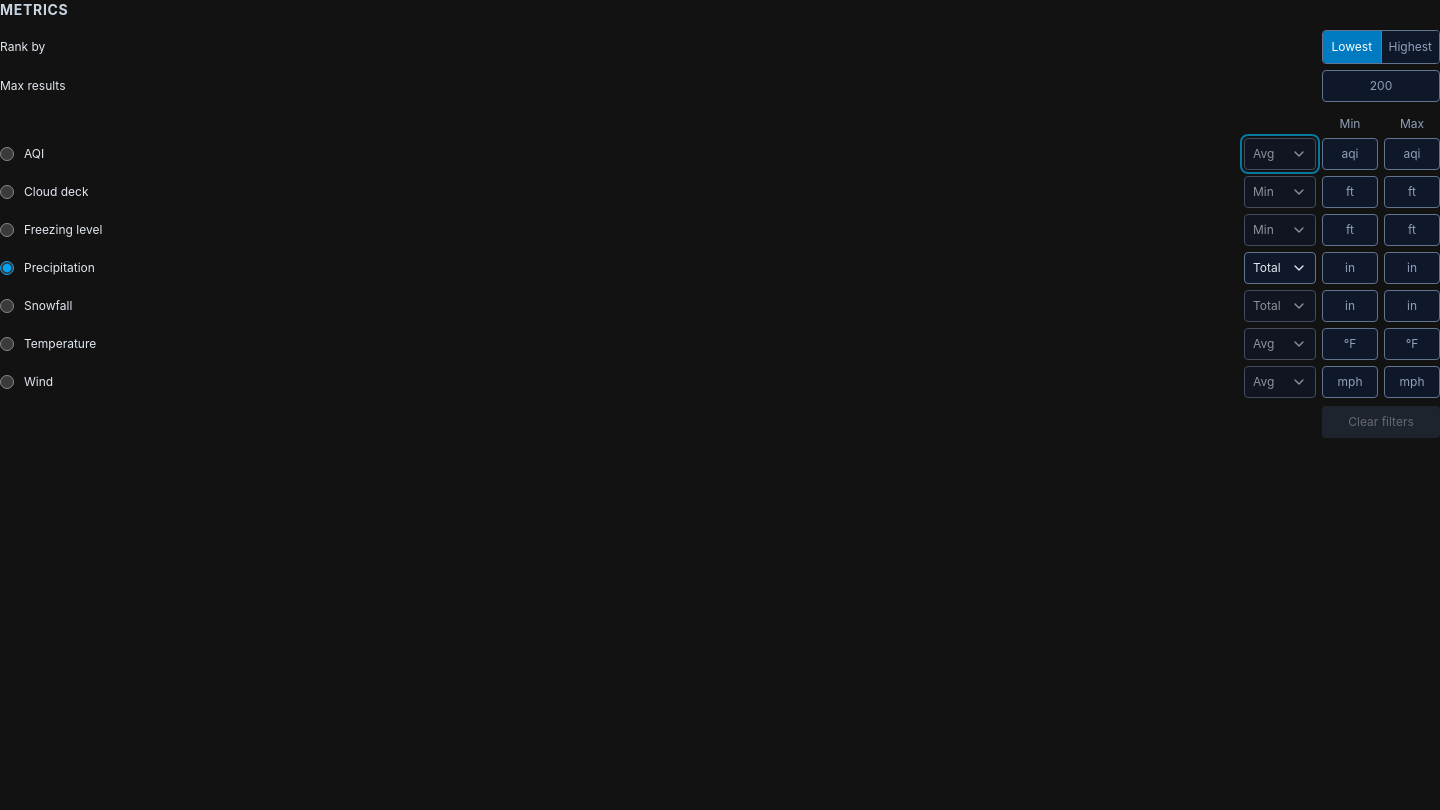
MetricsTable › ranks by a new aggregate from a sheet on a phone
Click the 2nd button "Avg" at (1280, 344), box top-left (1244, 328), bottom-right (1316, 360)
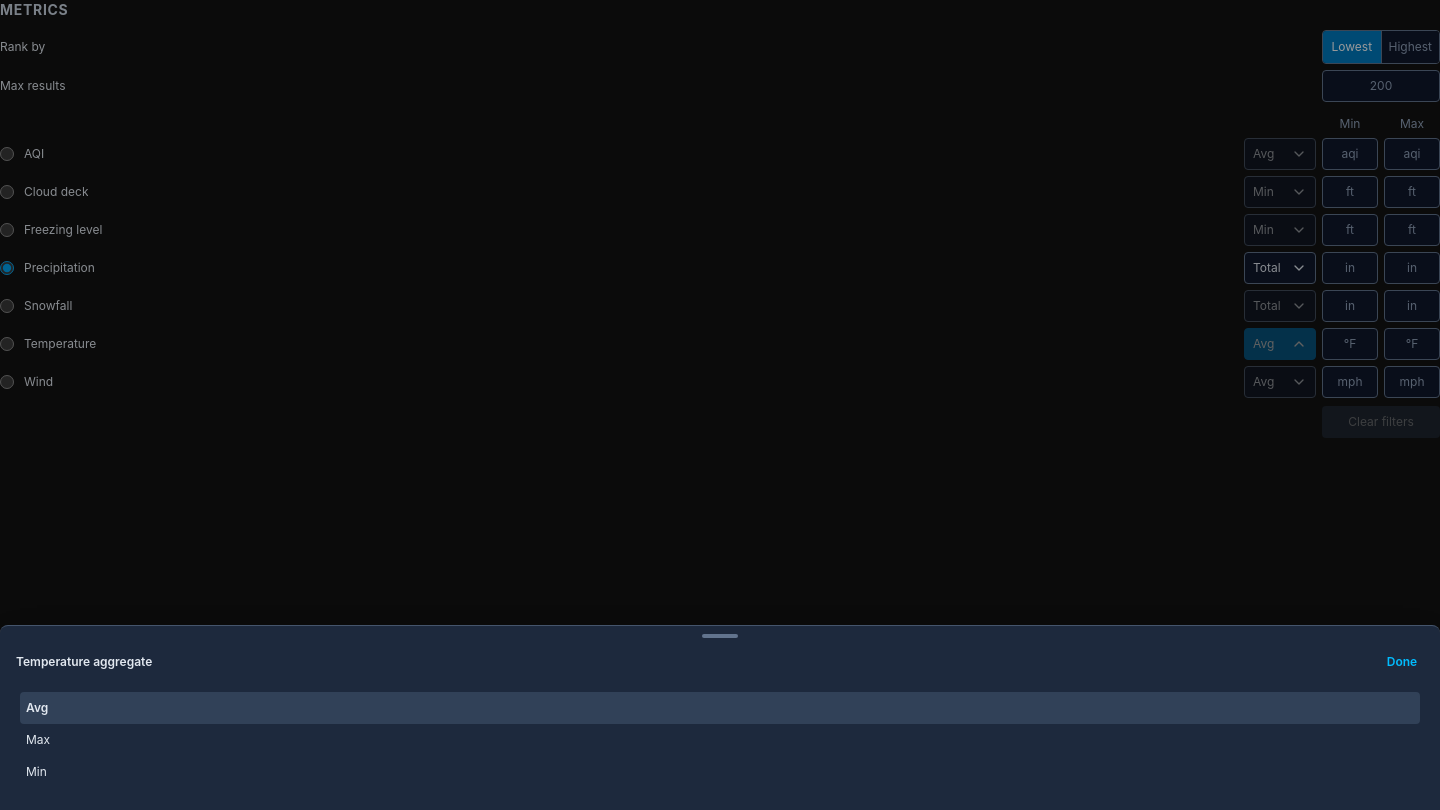
Click the option "Max" at (38, 740), box top-left (26, 732), bottom-right (50, 747)
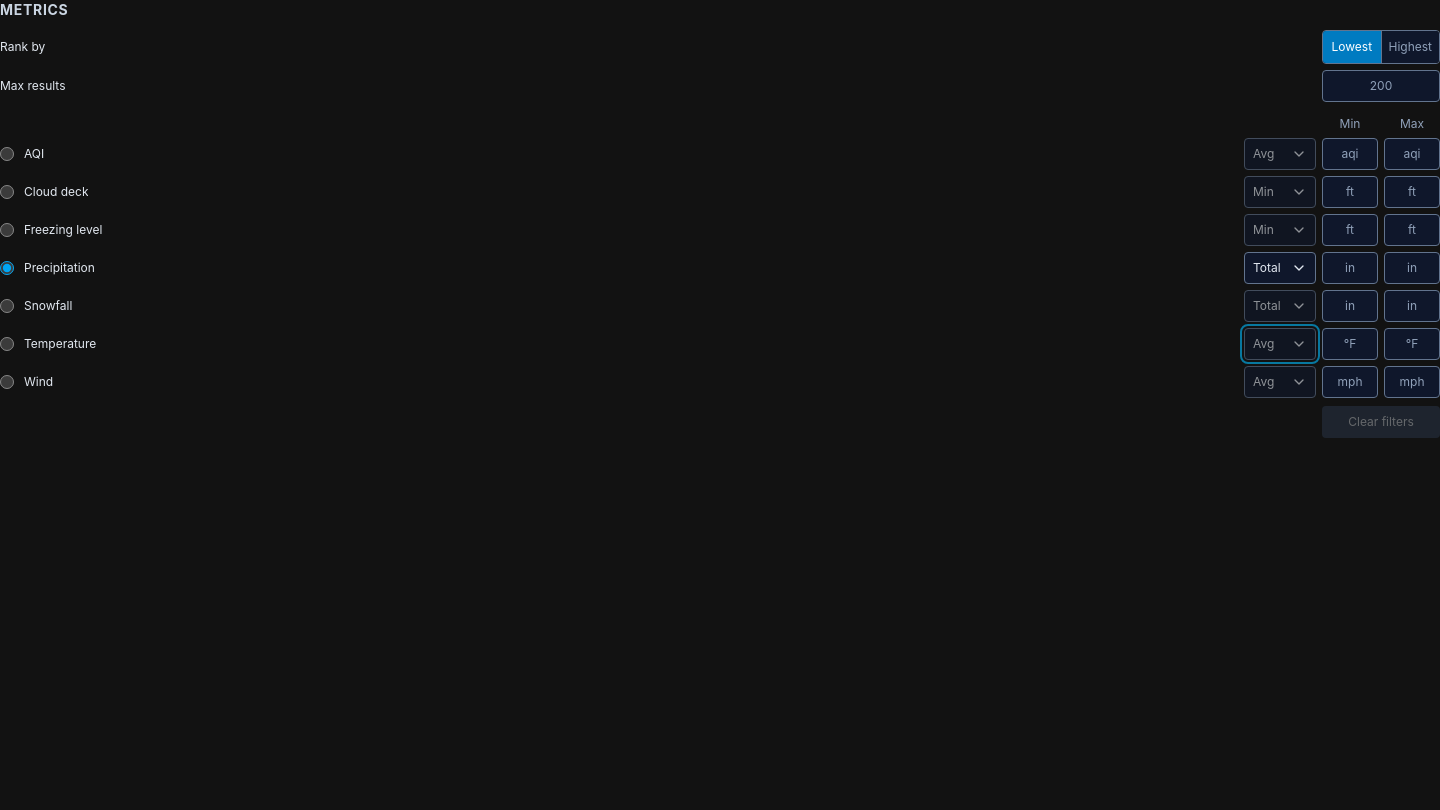
Check: the dialog is gone
